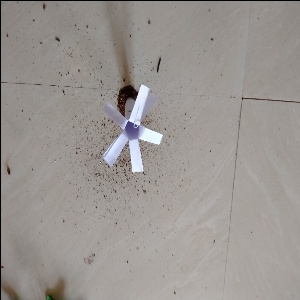weed: (101, 85, 163, 169)
